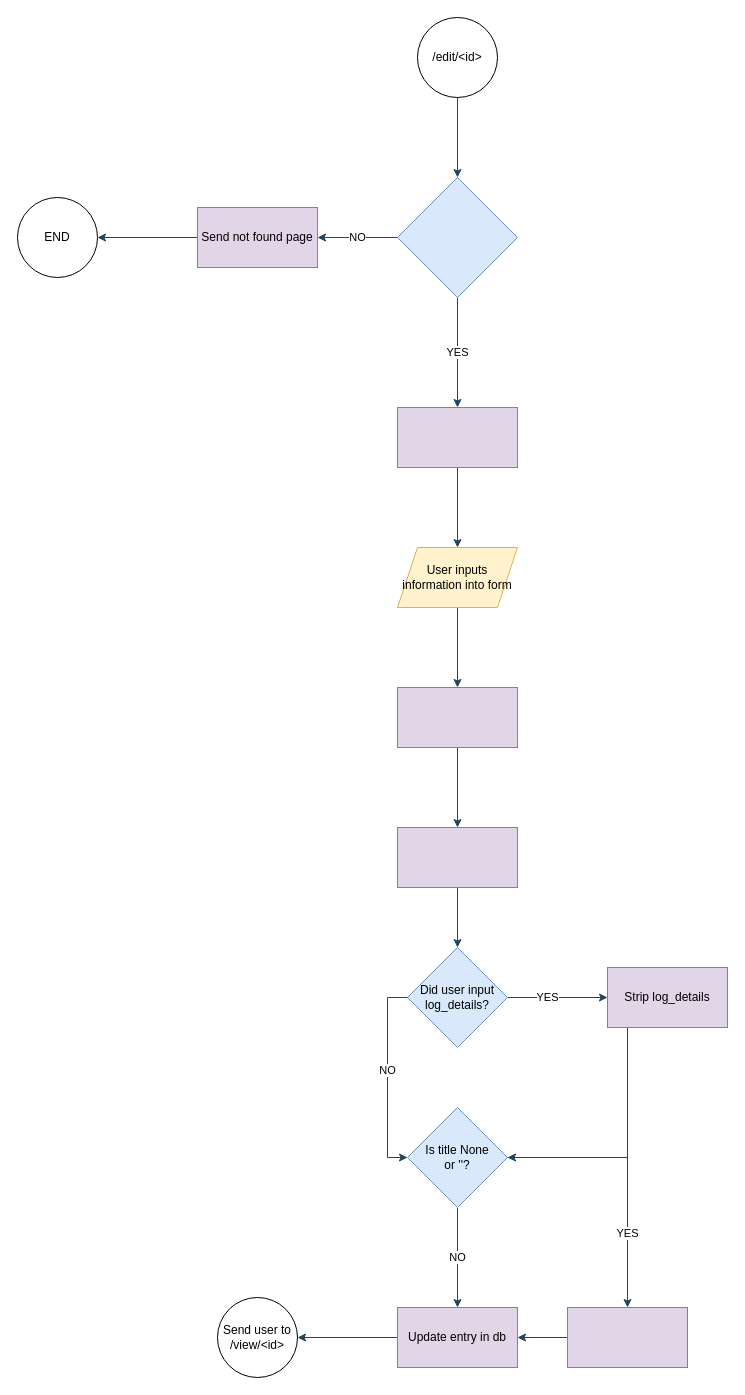
This 745x1395 diagram has some shape labels left out. Each missing label, with the centre of its shape:
Does entry with selected id exist?: point (457, 237)
Get original title from original entry: point (627, 1337)
Retrieve title, date_watched, rating, and release_year from form.: point (457, 857)
Send user form with previous information filled in: point (457, 437)
User presses "submit" button: point (457, 717)
